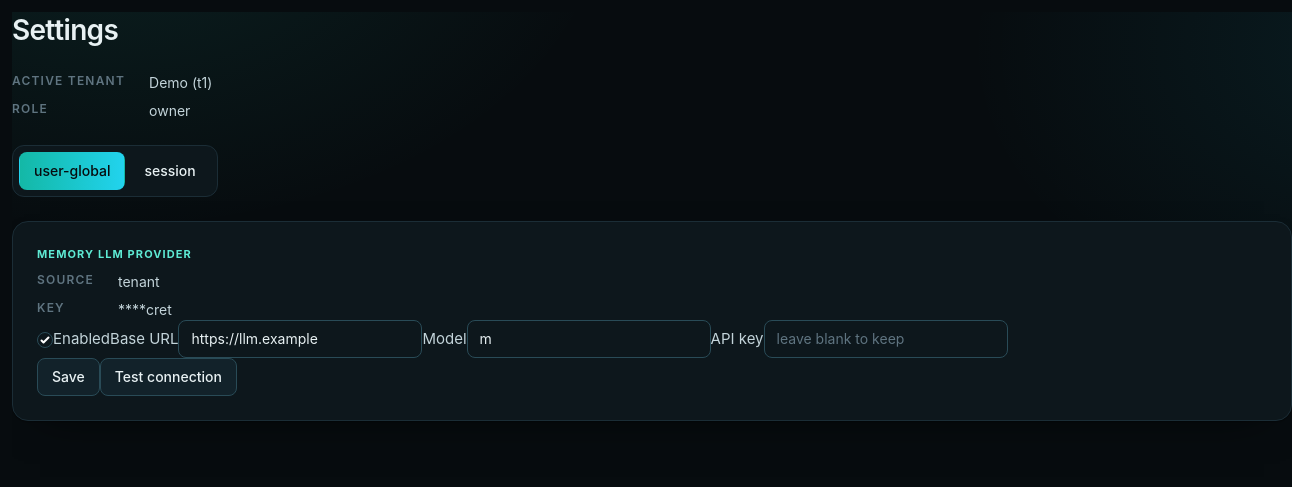
Scenario: SettingsPage providers › lets an administrator save and test the provider without echoing the secret
Expected: the text with test id "provider-secret" reads "****cret", [118, 301, 172, 318]
Expected: the text with test id "provider-source" reads "tenant", [118, 273, 160, 290]
Step 1. Click the button "Test connection" → point(168, 377), box [100, 358, 237, 396]
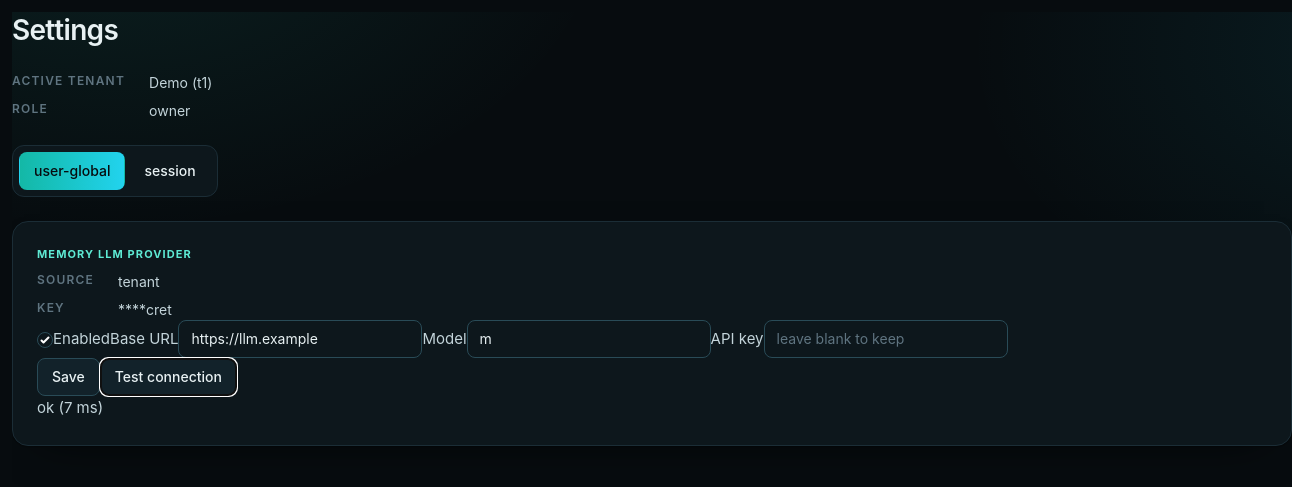
Result: the text with test id "provider-test-status" shows "ok" at [37, 398, 103, 417]
Step 2. Click the button "Save" → point(68, 377), box [37, 358, 100, 396]
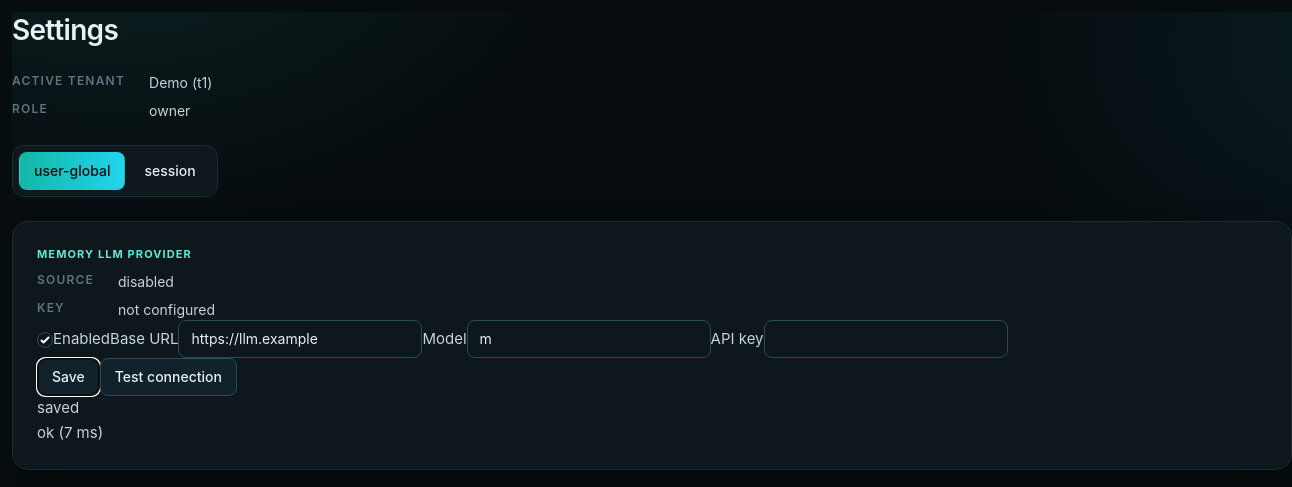
Result: the text with test id "provider-save-status" reads "saved" at [37, 398, 79, 417]
